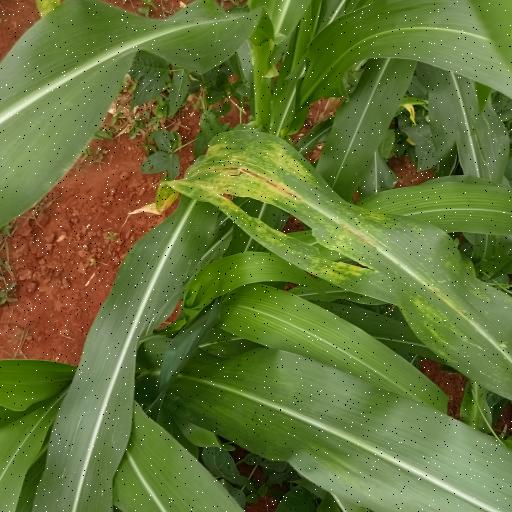Corn_Brown_Spots: (140, 126, 512, 380)
